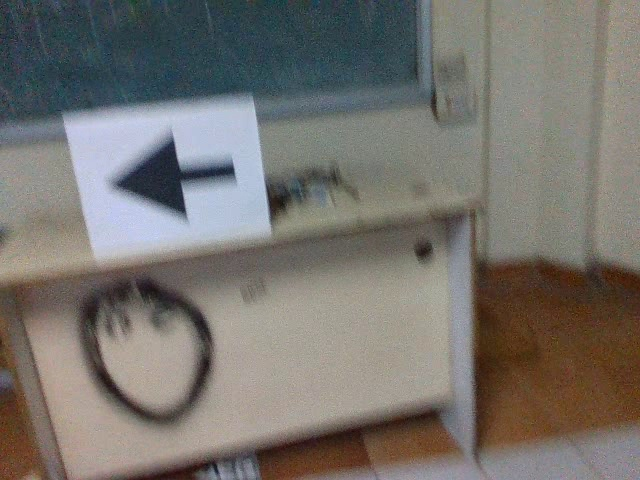Left: (100, 125, 241, 226)
